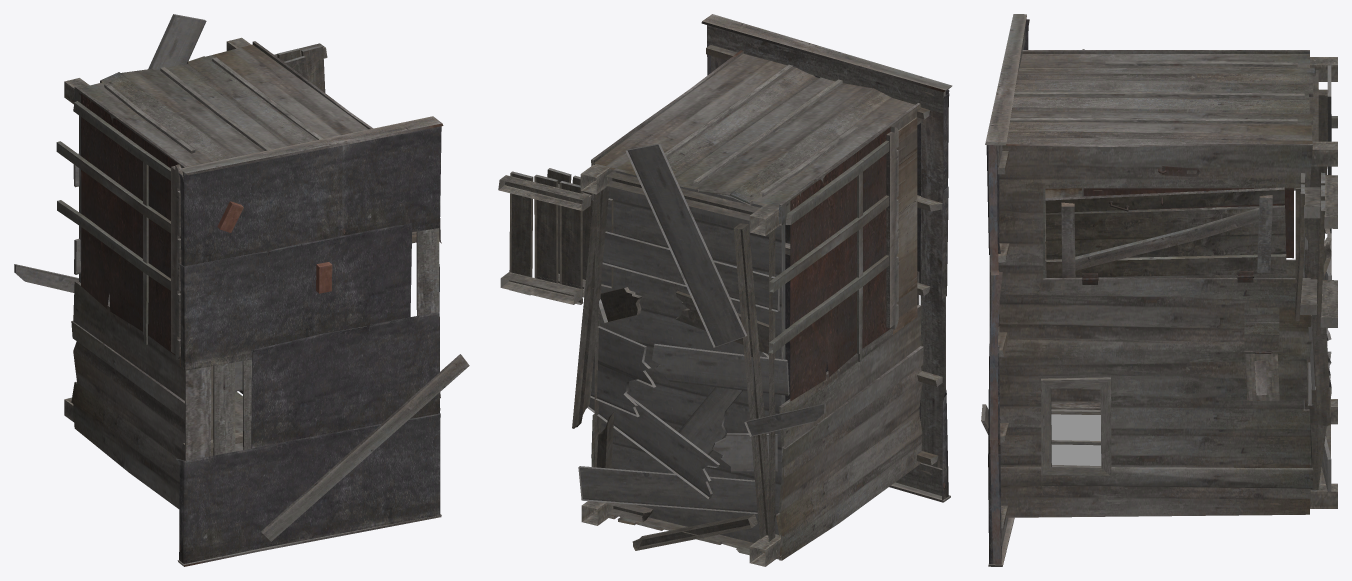
Rendered from hd_bld_SU_129_TownShed_02.glb.
The picture shows the model from 3 angles, left to right: view 1: azimuth 30°, elevation 25°; view 2: azimuth 150°, elevation 25°; view 3: azimuth 270°, elevation 25°; orthographic projection. The views are drawn at different scales.
Parts seen in each view (by area): view 1: set_0_group_2, set_0_group_0; view 2: set_0_group_2, set_0_group_0; view 3: set_0_group_2, set_0_group_0, set_0_group_1.
Boxes of the visible parts, x1,y1,x2,y2 form: set_0_group_2: [56, 38, 469, 566]; set_0_group_0: [14, 14, 251, 421]; set_0_group_2: [498, 14, 952, 566]; set_0_group_0: [572, 143, 825, 566]; set_0_group_2: [981, 14, 1337, 566]; set_0_group_0: [1305, 57, 1337, 508]; set_0_group_1: [1051, 414, 1101, 465].
Size of the model in its own units: 3.05 by 3.88 by 2.82.
3 materials, 2 textured.
